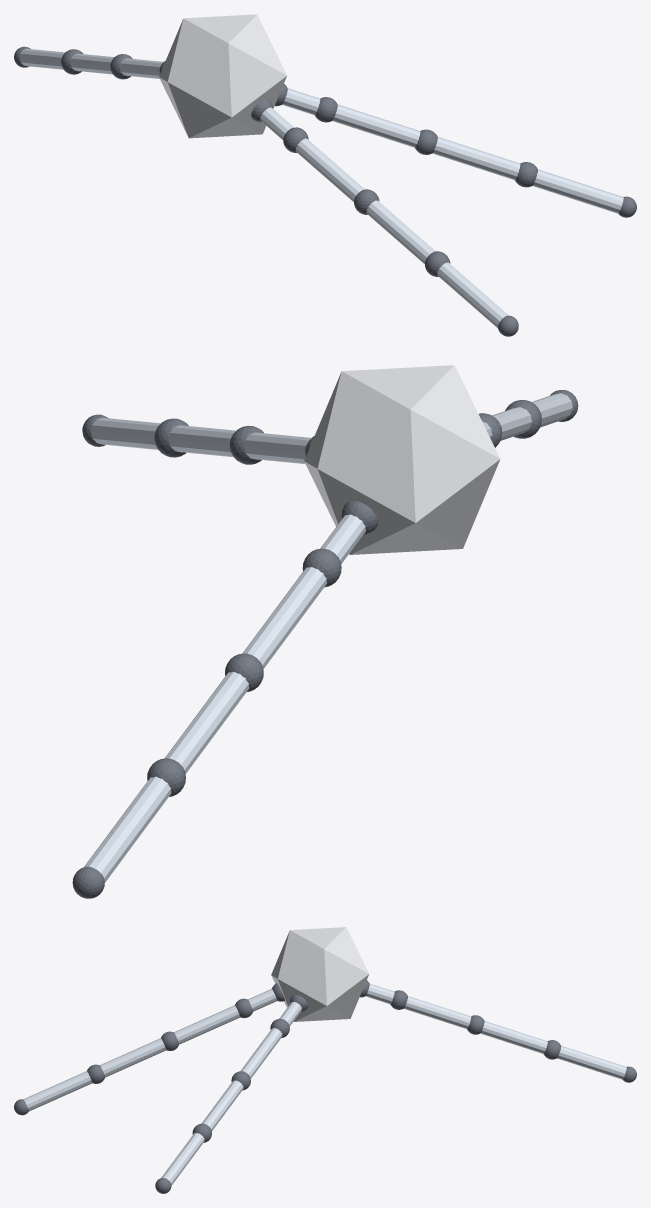
The model's file is g0_444_0_abs.glb.
3 renders of one model, top to bottom at view 1: azimuth 30°, elevation 25°; view 2: azimuth 150°, elevation 25°; view 3: azimuth 270°, elevation 25°, orthographic. The views are drawn at different scales.
Parts seen in each view (by area): view 1: geom_0, geom_26, geom_22, geom_24, geom_17, geom_15, geom_13, geom_8, geom_6, geom_4, geom_20, geom_11; view 2: geom_0, geom_8, geom_6, geom_4, geom_26, geom_24, geom_22, geom_2, geom_3, geom_5, geom_7, geom_17 (+2 smaller); view 3: geom_0, geom_17, geom_8, geom_15, geom_13, geom_6, geom_4, geom_26, geom_22, geom_24.
Boxes of the visible parts, x1,y1,x2,y2 form: geom_0: (159,14,286,138); geom_26: (533,169,623,213); geom_22: (332,104,420,147); geom_24: (432,137,520,180); geom_17: (437,262,508,327); geom_15: (366,200,435,264); geom_13: (295,138,364,201); geom_8: (19,48,64,69); geom_6: (70,53,114,74); geom_4: (119,58,163,78); geom_20: (282,88,320,115); geom_11: (260,107,294,139); geom_0: (304,365,500,554); geom_8: (84,776,171,882); geom_6: (164,671,249,773); geom_4: (242,567,326,668); geom_26: (90,417,160,449); geom_24: (168,425,235,457); geom_22: (244,432,311,463); geom_2: (320,514,365,564); geom_3: (302,548,341,587); geom_5: (225,653,263,691); geom_7: (147,758,185,796); geom_17: (531,393,572,427); geom_0: (271,927,368,1021); geom_17: (23,1071,92,1111); geom_8: (557,1045,626,1079); geom_15: (100,1038,166,1077); geom_13: (174,1005,240,1044); geom_6: (480,1021,547,1053); geom_4: (404,996,471,1028); geom_26: (161,1133,204,1185); geom_22: (240,1028,282,1078); geom_24: (201,1080,243,1130).
Size of the model in its own units: 0.4827 by 0.2368 by 0.9202.
